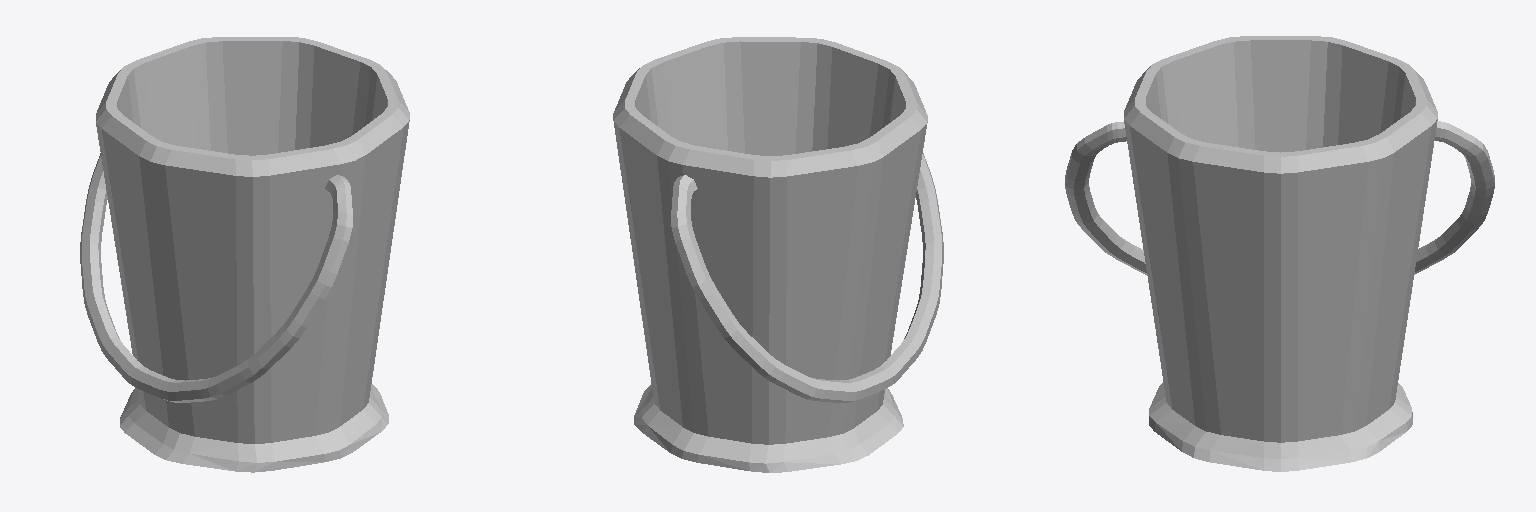
Rendered from bucket.obj.
3 views of the same model, side by side, from view 1: azimuth 30°, elevation 25°; view 2: azimuth 150°, elevation 25°; view 3: azimuth 270°, elevation 25° (orthographic).
Parts seen in each view (by area): view 1: bucket; view 2: bucket; view 3: bucket.
Part boxes in pixels (x1,y1,x2,y2): bucket: (80, 37, 409, 472); bucket: (613, 37, 943, 472); bucket: (1065, 36, 1494, 471).
Size of the model in its own units: 391 by 442 by 538.